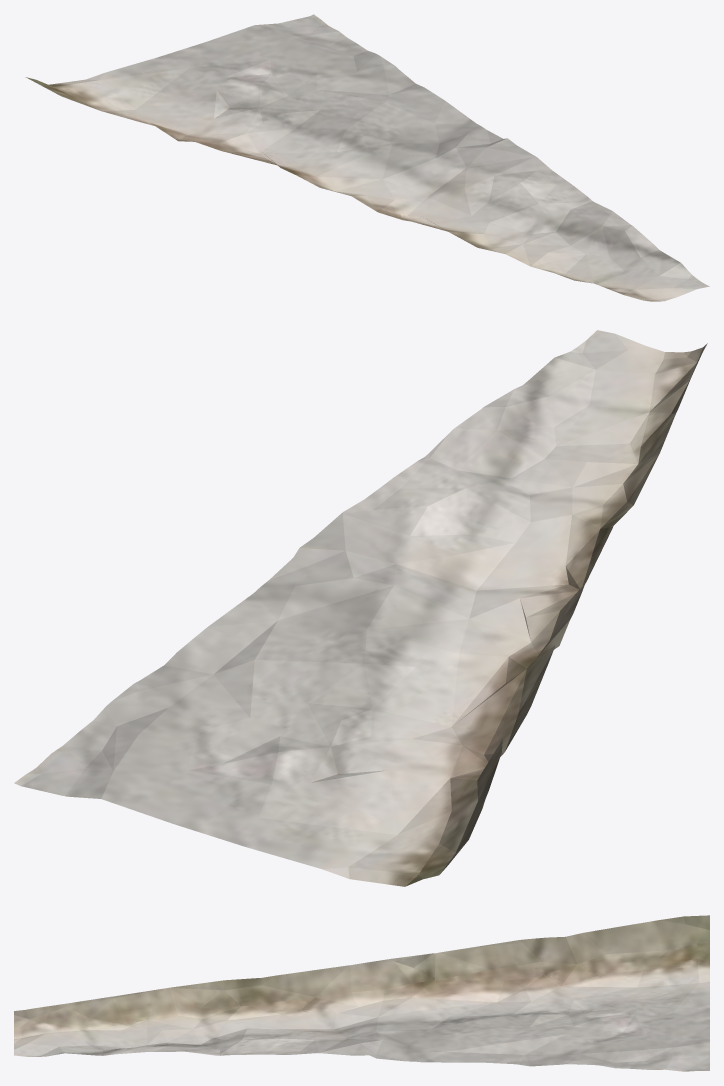
The picture shows the model from 3 angles, top to bottom: view 1: azimuth 30°, elevation 25°; view 2: azimuth 150°, elevation 25°; view 3: azimuth 270°, elevation 25°; orthographic projection. The views are drawn at different scales.
Bounding box in the file's own units: 1.29 × 0.176 × 2.95.
1 material, 1 textured.
